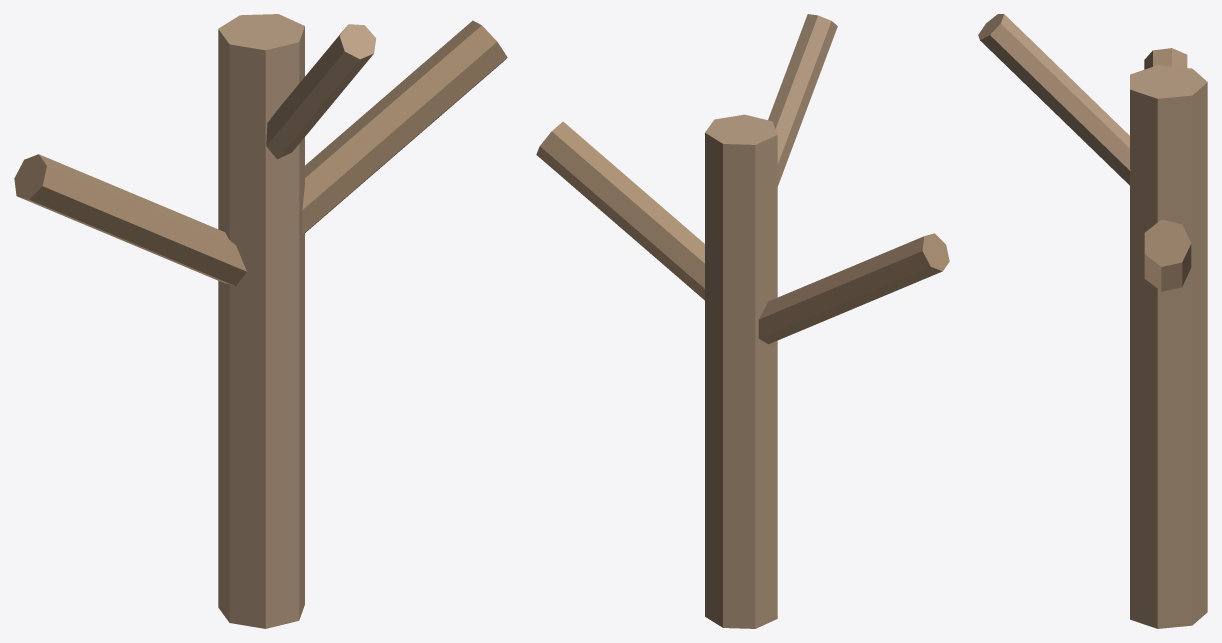
Rendered from twig_fork.glb.
3 views of the same model, side by side, from view 1: azimuth 30°, elevation 25°; view 2: azimuth 150°, elevation 25°; view 3: azimuth 270°, elevation 25° (orthographic). The views are drawn at different scales.
Parts seen in each view (by area): view 1: Upright, Branch_R, Branch_L, Branch_Back; view 2: Upright, Branch_R, Branch_L, Branch_Back; view 3: Upright, Branch_Back, Branch_R, Branch_L.
Part boxes in pixels (x1,y1,x2,y2): Upright: (218, 14, 304, 628); Branch_R: (302, 20, 507, 234); Branch_L: (14, 154, 246, 285); Branch_Back: (266, 24, 376, 159); Upright: (705, 114, 777, 628); Branch_R: (536, 121, 704, 300); Branch_L: (758, 233, 949, 344); Branch_Back: (768, 14, 837, 186); Upright: (1130, 65, 1207, 628); Branch_Back: (978, 14, 1130, 185); Branch_R: (1144, 219, 1191, 291); Branch_L: (1144, 48, 1187, 69).
Bounding box in the file's own units: 1.25 × 1.61 × 0.5614.
